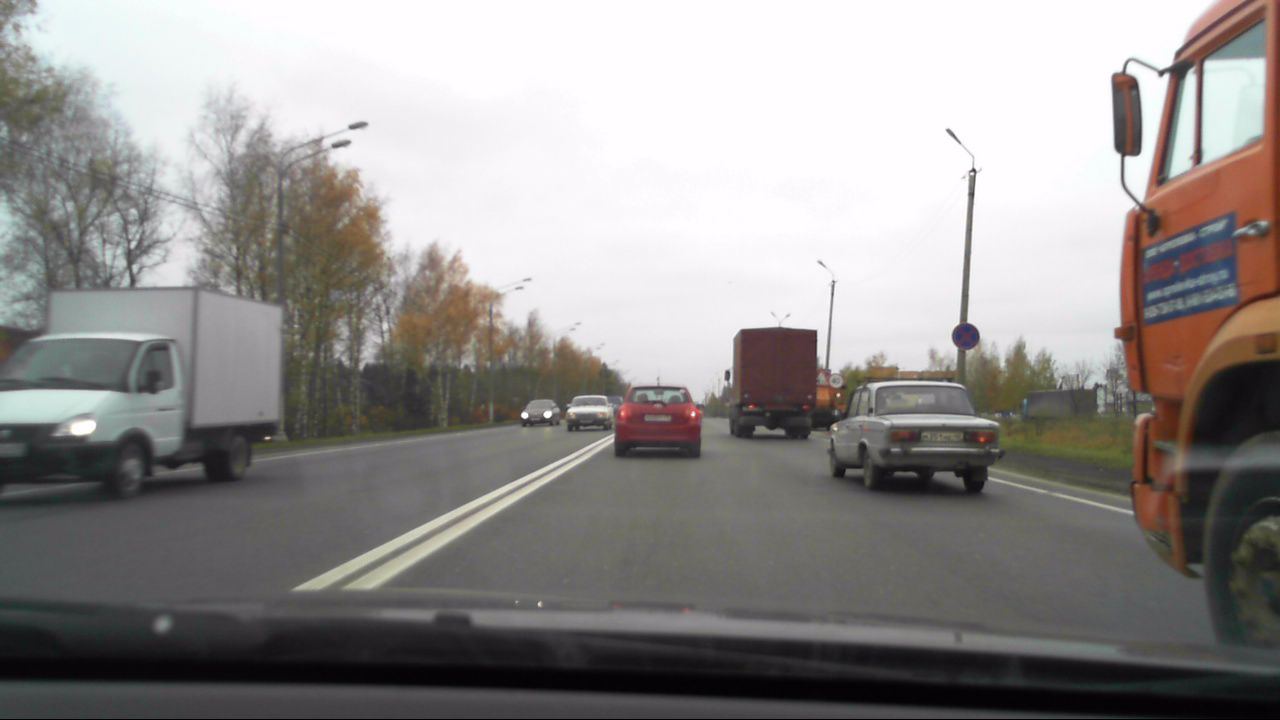No Parking: (949, 322, 983, 352)
